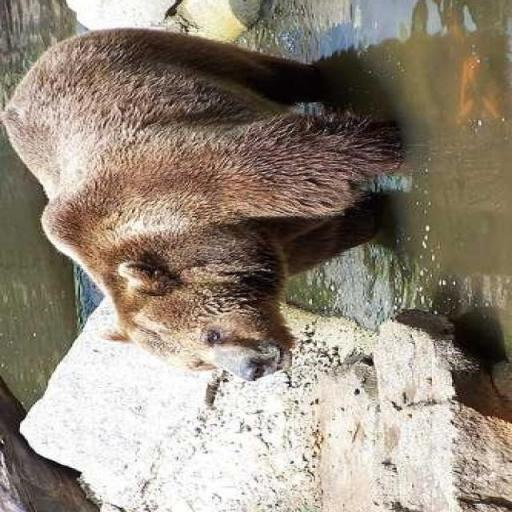Bear: (0, 25, 410, 381)
